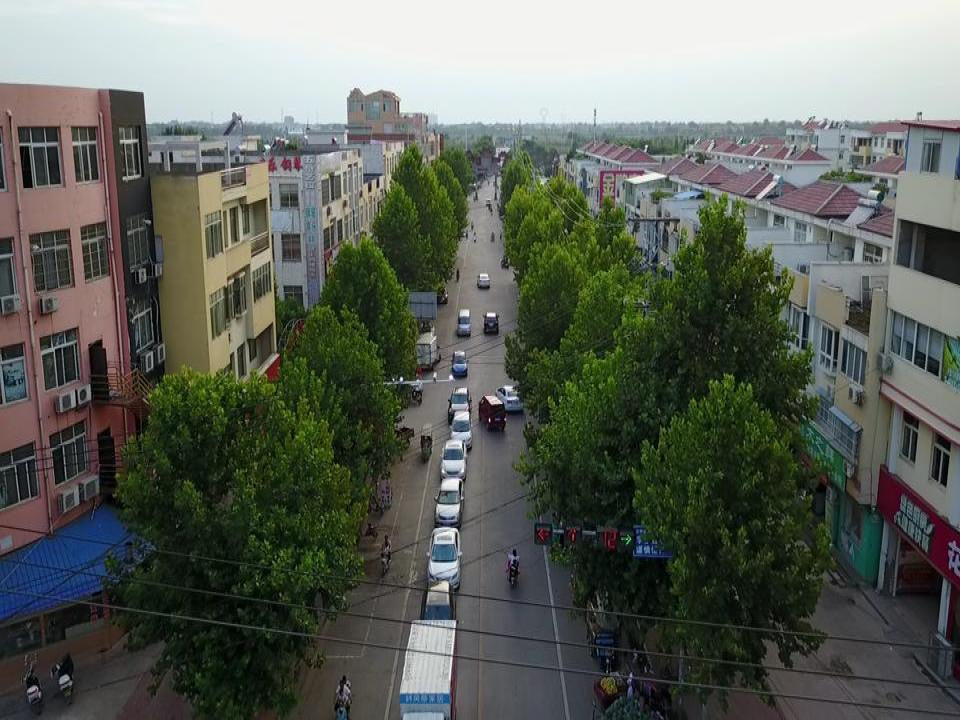car: (419, 580, 457, 655), (425, 526, 460, 594), (435, 477, 464, 532), (440, 440, 467, 487), (448, 410, 472, 450), (448, 387, 470, 424), (495, 387, 524, 412), (482, 312, 499, 335), (452, 351, 467, 377), (477, 274, 490, 290), (437, 287, 448, 305), (486, 198, 492, 206)
truck: (399, 618, 458, 720), (415, 335, 441, 373)
van: (477, 395, 506, 432), (457, 308, 471, 340)
